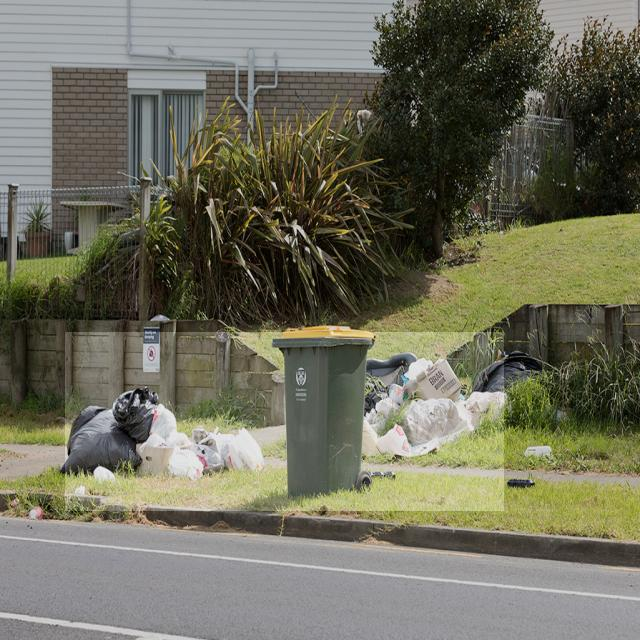dumping: (65, 332, 504, 511)
